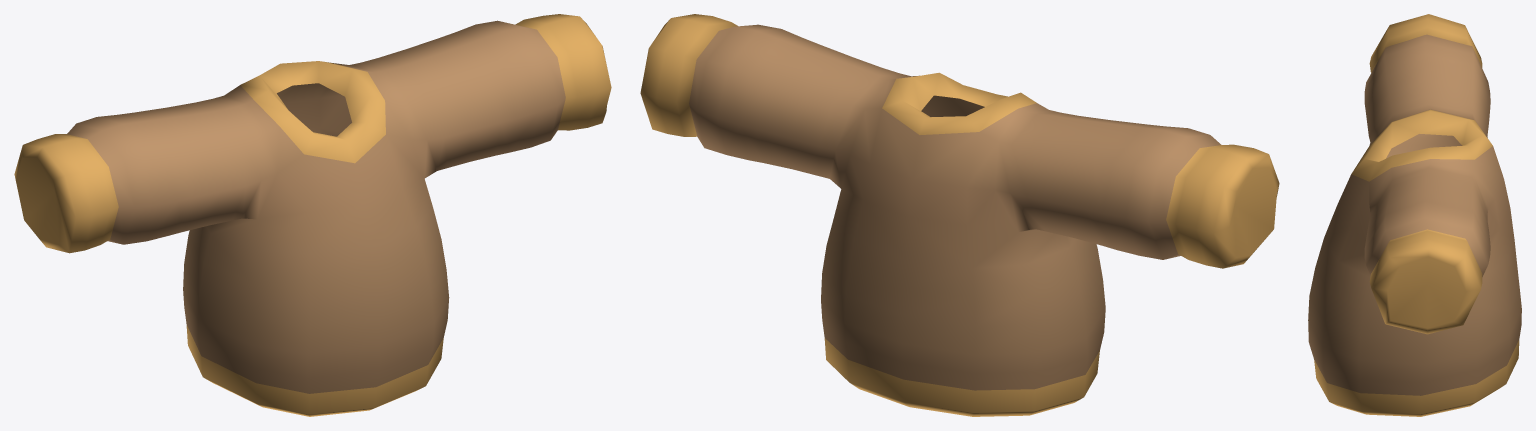
The model's file is Top_18.fbx.
3 renders of one model, left to right at view 1: azimuth 30°, elevation 25°; view 2: azimuth 150°, elevation 25°; view 3: azimuth 270°, elevation 25°, orthographic. The views are drawn at different scales.
Visible parts, largest first — view 1: Top_18; view 2: Top_18; view 3: Top_18.
Part boxes in pixels (bbox=[...]): Top_18: bbox=[14, 14, 611, 416]; Top_18: bbox=[640, 14, 1279, 416]; Top_18: bbox=[1308, 14, 1521, 416].
Size of the model in its own units: 98 by 49.7 by 37.16.
